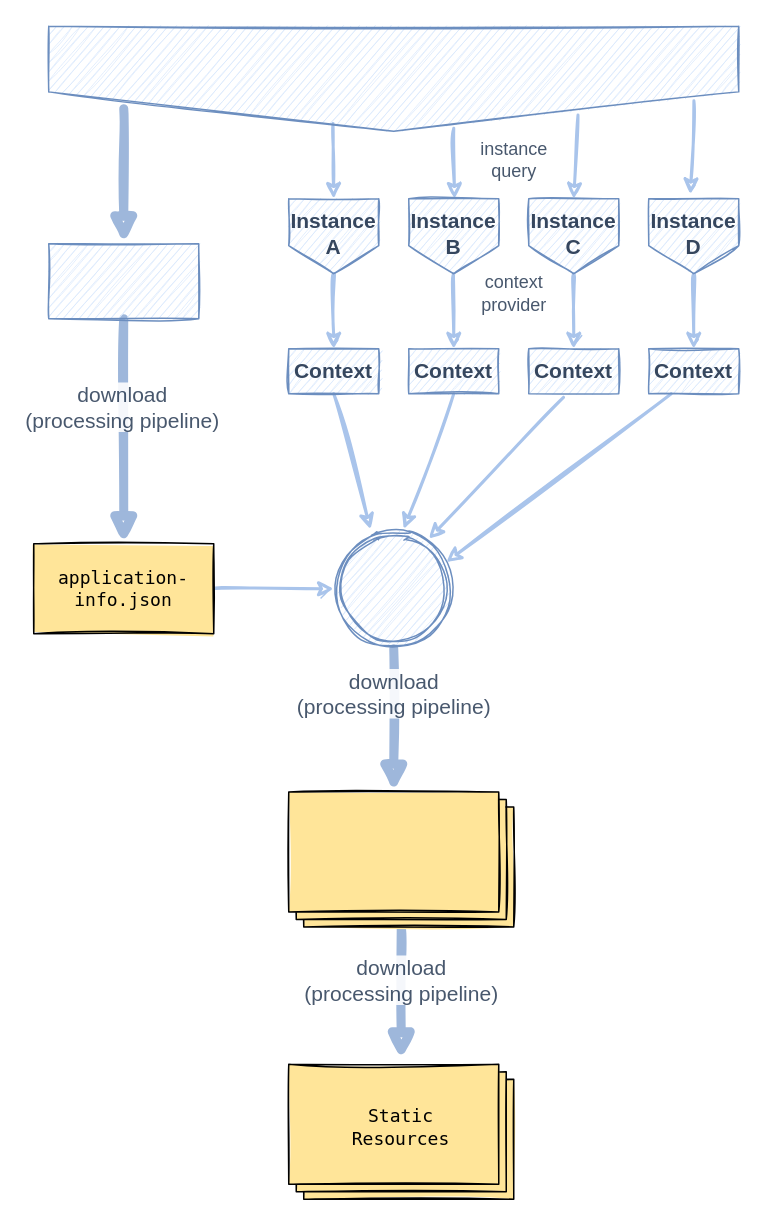
The diagram is 765 pixels wide and 1226 high, and some of its shapes have lost their labels. Here are the shapes that lost their labels. From the top down, the centre of each, then its label:
the point at 393,78: Prefetch
the point at 123,280: Application (OSGi Config)
the point at 393,588: Snippet-URL's
the point at 400,858: Html Snippets
